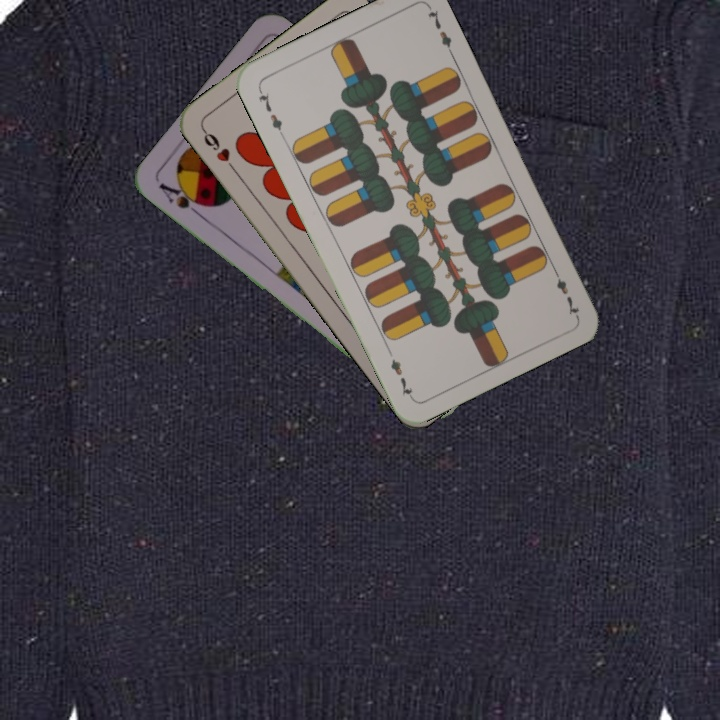E7: (548, 263, 582, 319), (254, 84, 287, 140)
H9: (198, 125, 239, 175)
SA: (154, 178, 209, 221)
